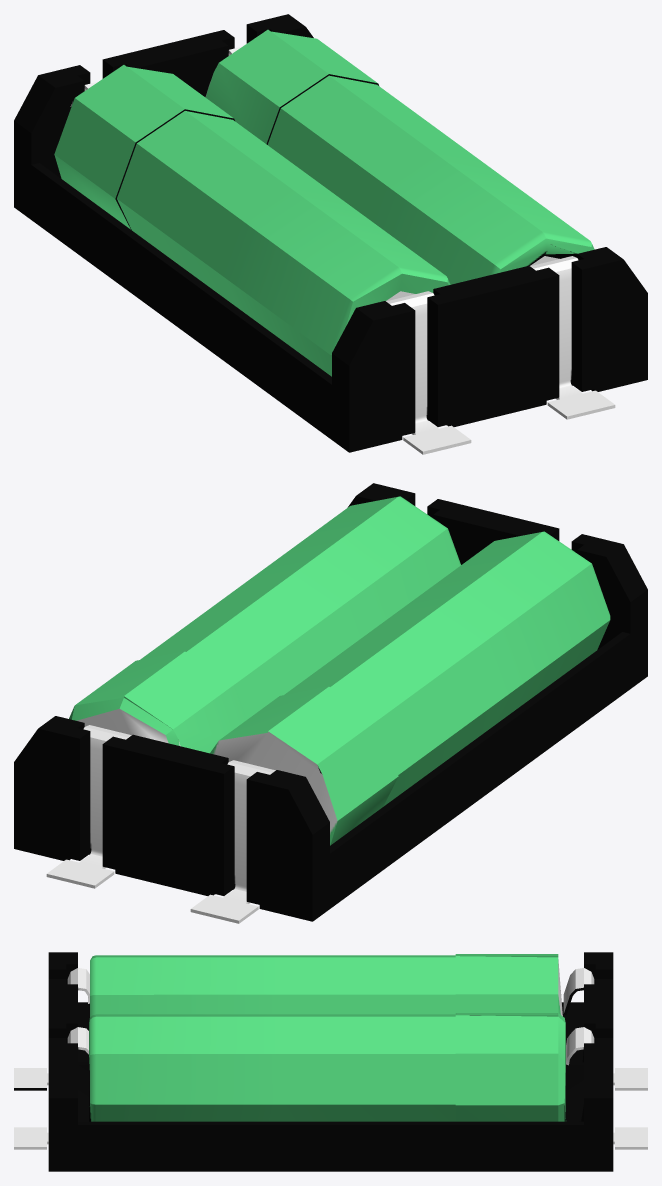
The model's file is SM_Battery.fbx.
3 renders of one model, top to bottom at view 1: azimuth 30°, elevation 25°; view 2: azimuth 150°, elevation 25°; view 3: azimuth 270°, elevation 25°, orthographic. The views are drawn at different scales.
Parts seen in each view (by area): view 1: battery_copy; view 2: battery_copy; view 3: battery_copy.
Part boxes in pixels (x1,y1,x2,y2): battery_copy: (14, 14, 647, 454); battery_copy: (14, 483, 647, 923); battery_copy: (14, 952, 647, 1171).
Bounding box in the file's own units: 3.96 × 1.87 × 8.64.
Materials: 1 (1 with a texture image).
